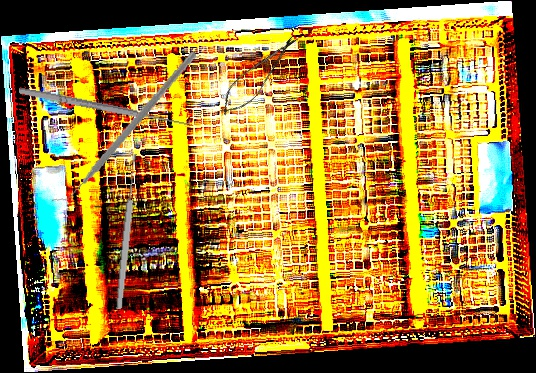Chopper: (50, 32, 197, 221)
Hook Surgical: (17, 79, 193, 130)
Micro Scissor: (211, 26, 306, 124)
Surgical Spoon: (114, 153, 140, 310)
